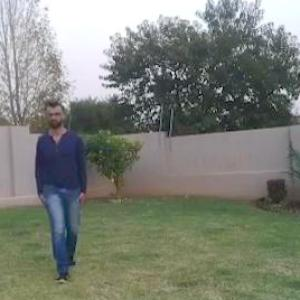follow: (37, 108, 88, 271)
